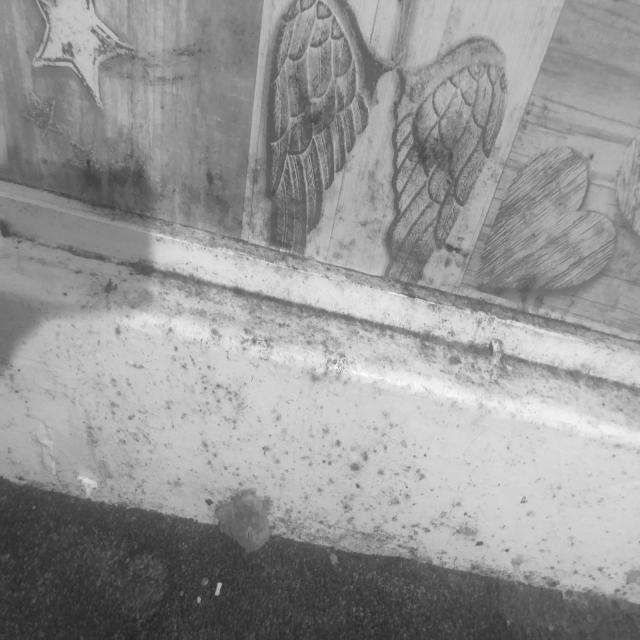stain marks: (142, 293, 638, 399), (0, 238, 142, 507), (295, 400, 442, 557), (145, 396, 291, 538), (538, 400, 640, 602), (444, 401, 542, 584), (45, 152, 273, 229), (332, 119, 407, 270), (80, 38, 238, 91), (420, 202, 496, 288), (122, 246, 238, 292)
